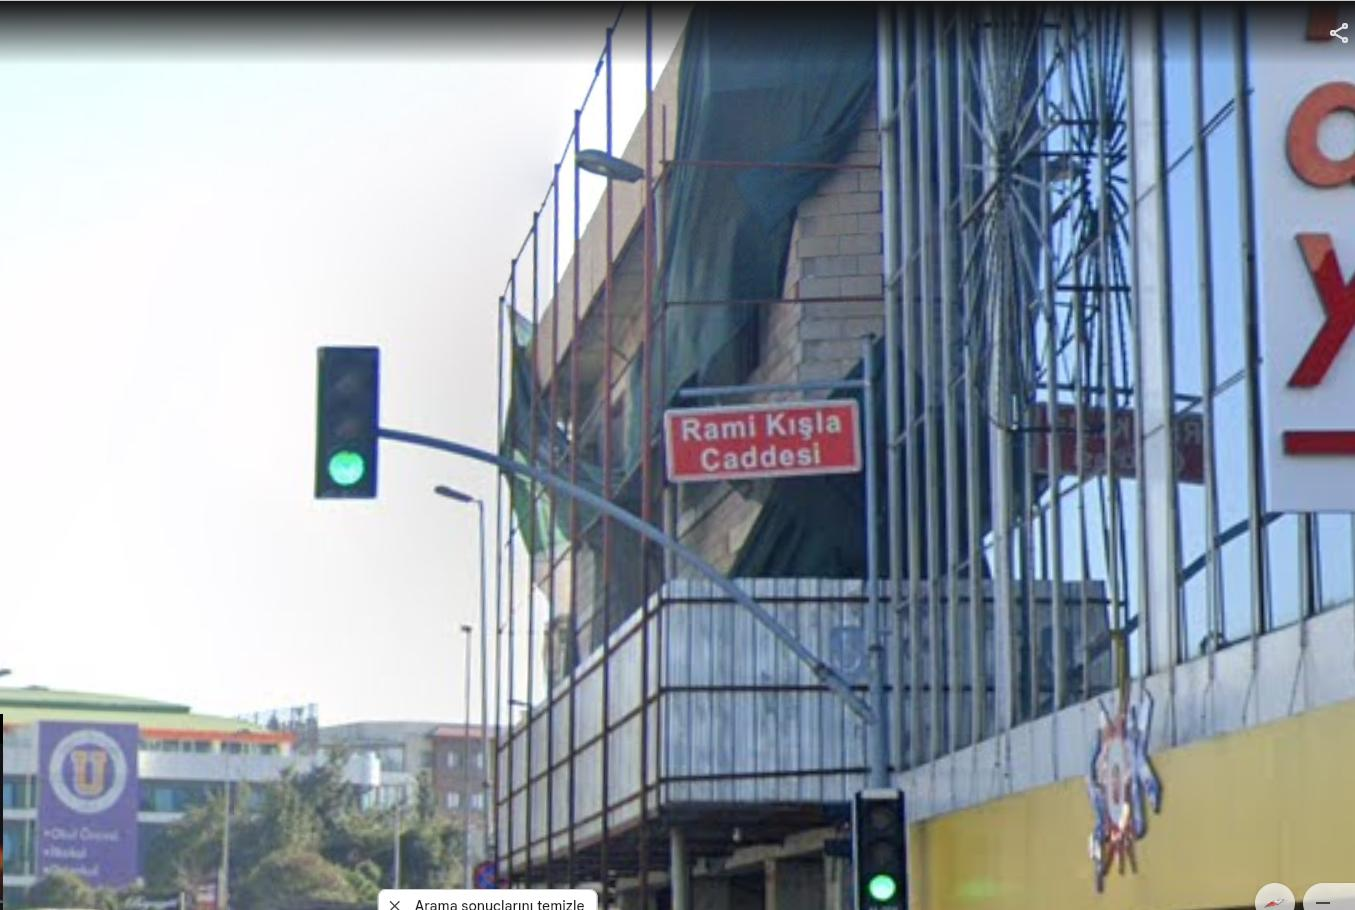greenlight: (318, 345, 373, 493), (857, 793, 910, 909)
